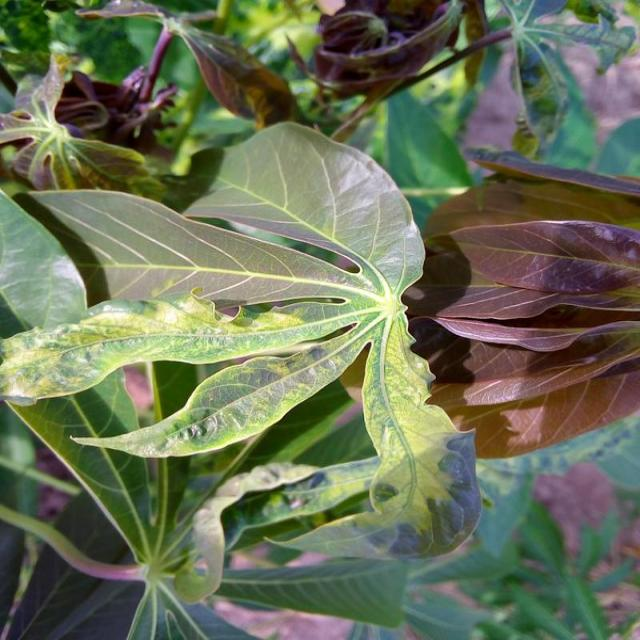cassava leaf: (1, 118, 481, 564)
